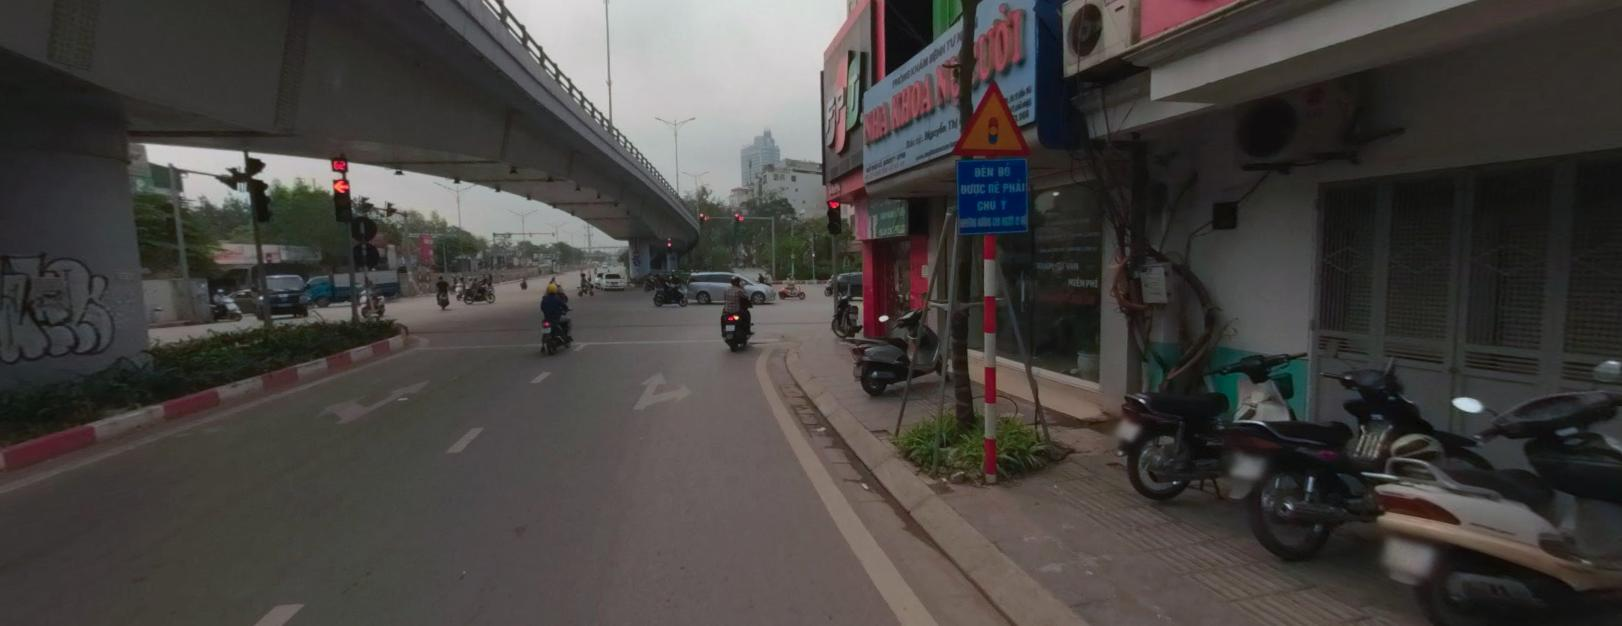Nguy hiem: (951, 80, 1033, 156)
